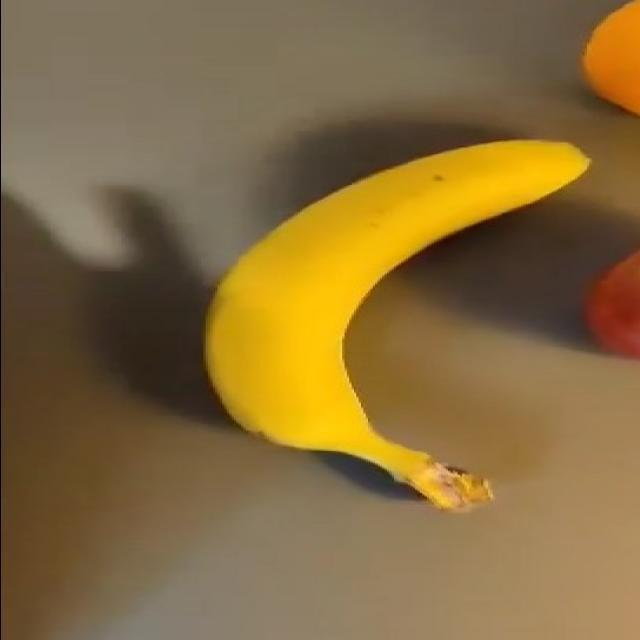Banana: (203, 136, 591, 513)
Orange: (580, 0, 639, 116)
